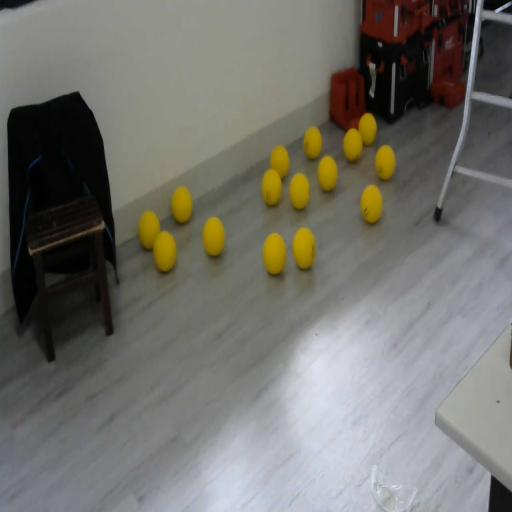FUEL: (262, 231, 287, 277), (152, 229, 178, 273), (292, 226, 316, 270), (202, 216, 226, 258), (360, 184, 382, 224), (138, 210, 160, 250), (288, 171, 310, 210), (171, 185, 193, 224), (374, 144, 396, 180), (318, 156, 338, 192), (270, 145, 290, 180), (343, 127, 363, 162), (358, 112, 377, 146), (303, 126, 322, 159)
